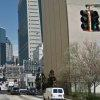Traffic light: (73, 4, 100, 41)
